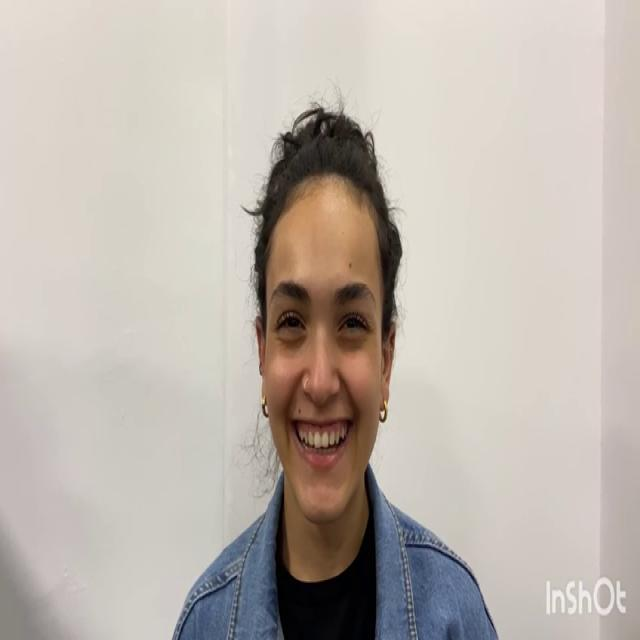happy: (266, 175, 379, 521)
